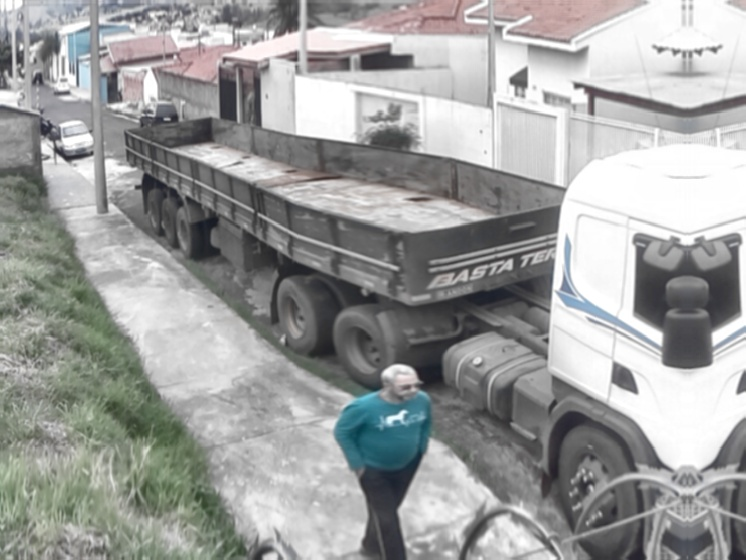person: (326, 361, 436, 560)
